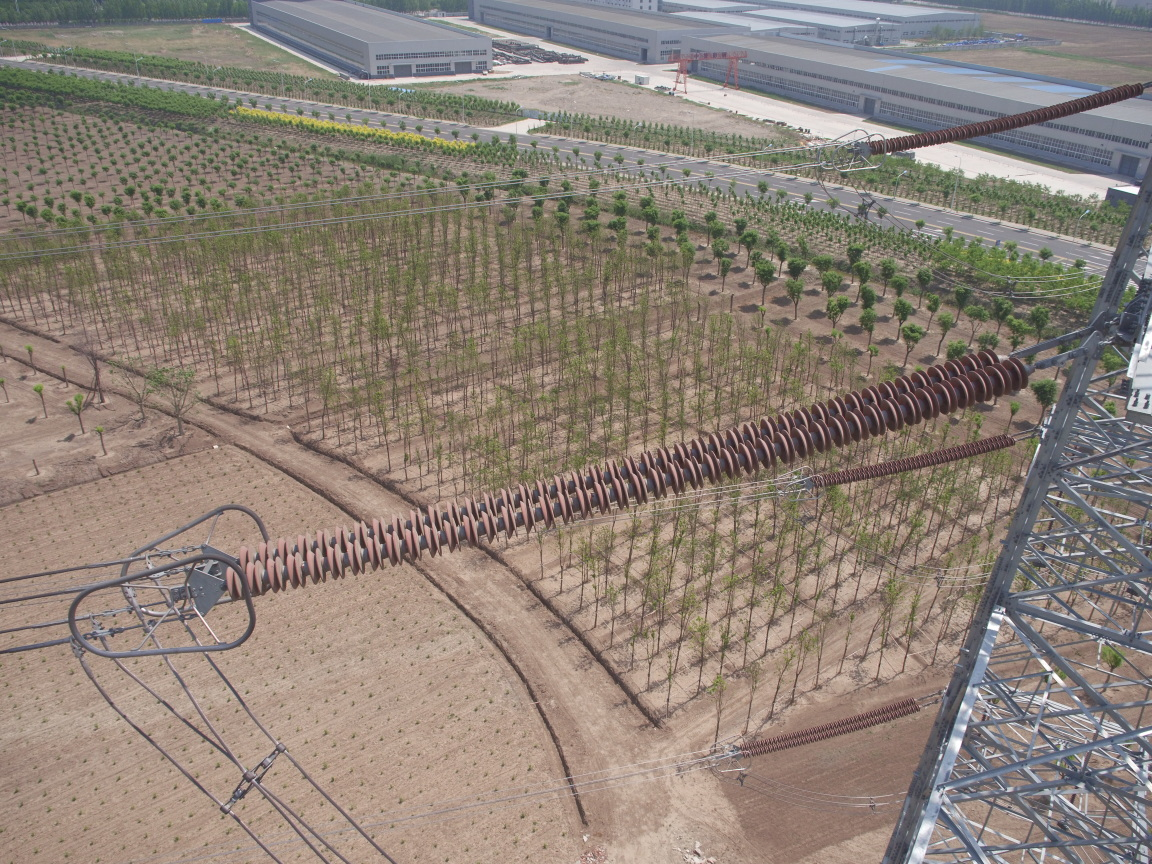insulator: (205, 339, 1069, 607), (858, 76, 1152, 159), (736, 693, 931, 761)
